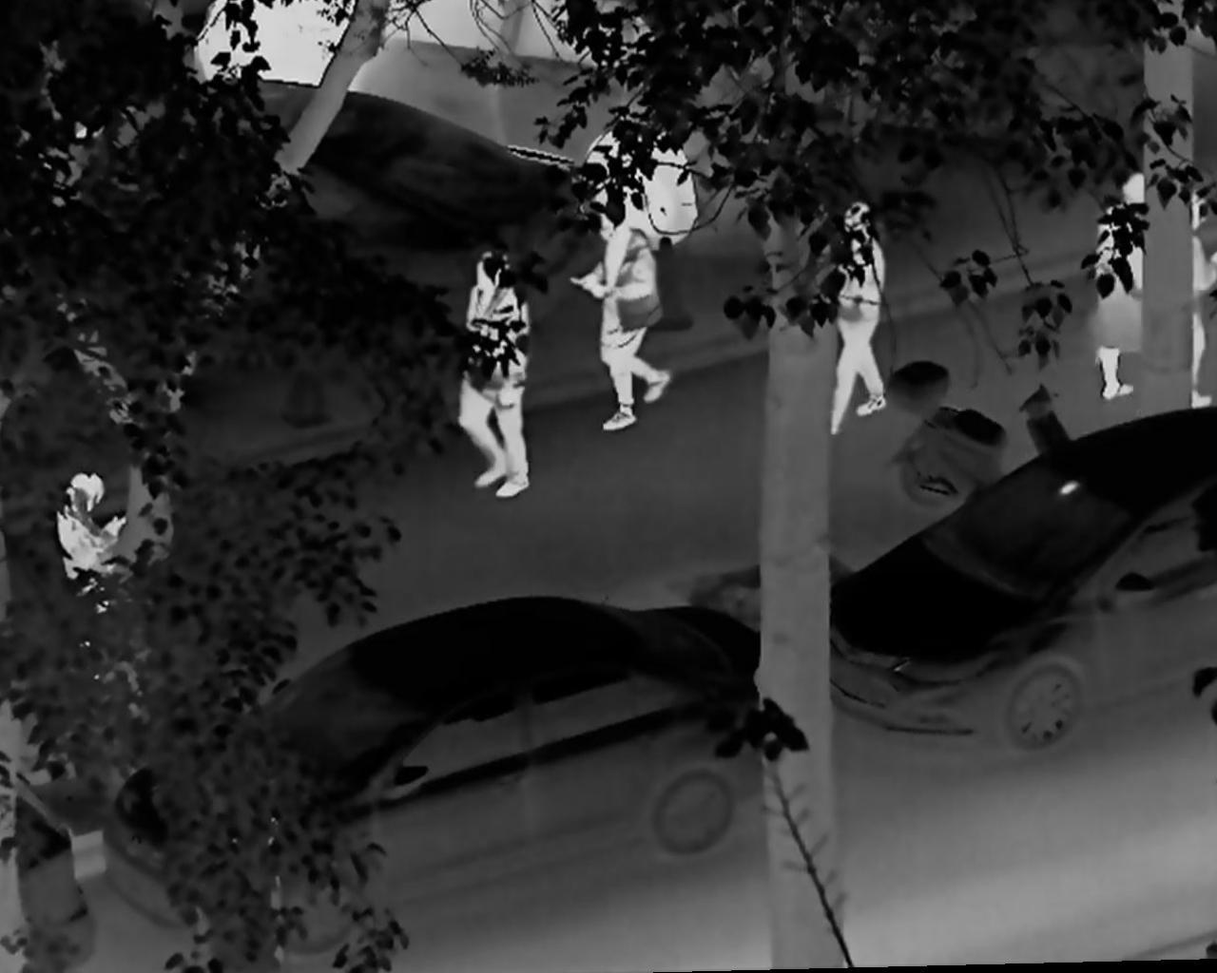person: (570, 200, 673, 436), (445, 250, 535, 504), (821, 195, 893, 438), (57, 470, 132, 694), (1098, 175, 1149, 404), (1179, 185, 1217, 407)
